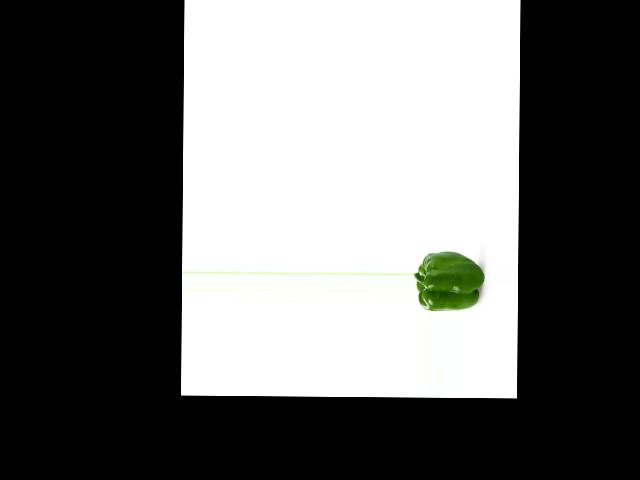bell_pepper: (415, 249, 482, 312)
